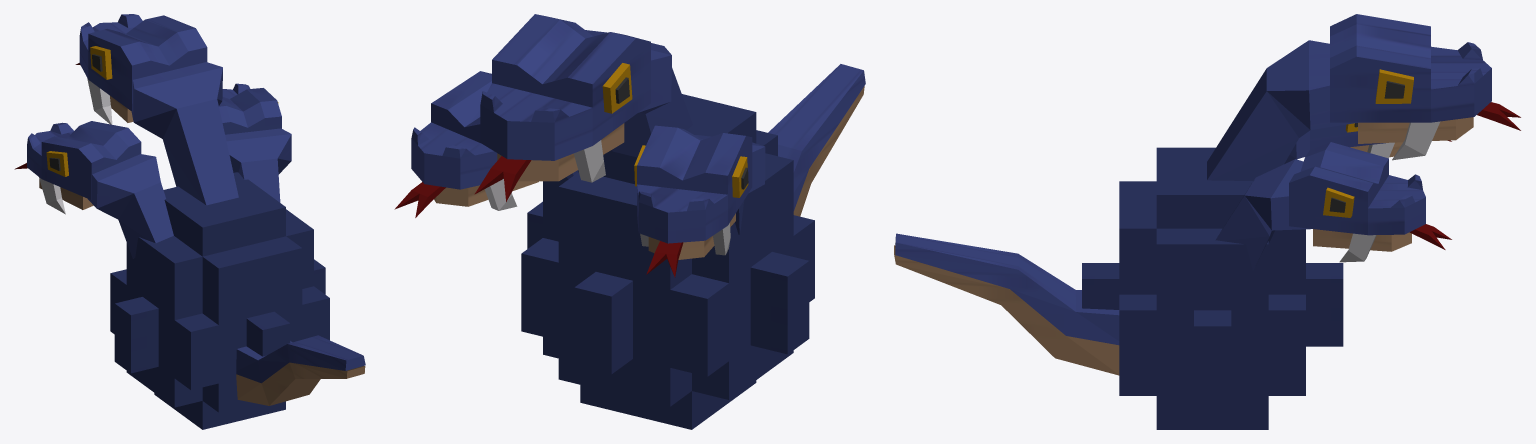
Rendered from egg_z02_02.glb.
The picture shows the model from 3 angles, left to right: view 1: azimuth 30°, elevation 25°; view 2: azimuth 150°, elevation 25°; view 3: azimuth 270°, elevation 25°; orthographic projection. The views are drawn at different scales.
Parts seen in each view (by area): view 1: model_016; view 2: model_016; view 3: model_016.
Boxes of the visible parts, box(x1,y1,x2,y2) form: model_016: box(14, 14, 365, 429); model_016: box(394, 14, 865, 429); model_016: box(894, 14, 1520, 429).
Size of the model in its own units: 1.93 by 2.61 by 4.
Materials: 7 (7 with a texture image).
